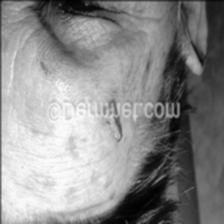Potentially Malignant Skin Tumors: (105, 119, 123, 136), (110, 128, 122, 144)
